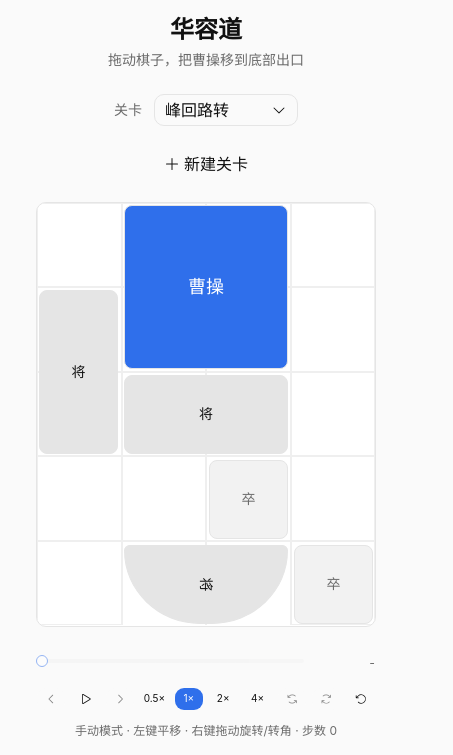
半圆块交互 › 听筒右键拖动转角后仍可左键平移
This screenshot has width=453, height=755.
Click the dropdown named "选择关卡". click: [226, 110]
box: [154, 94, 298, 126]
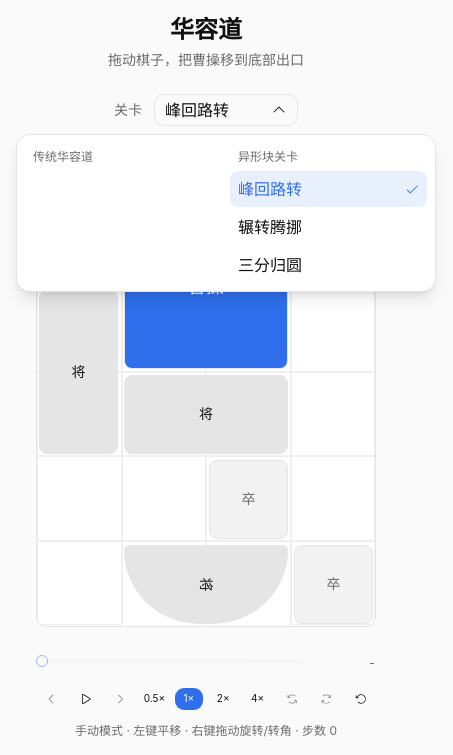
Click the option "辗转腾挪". click: [328, 226]
box: [230, 208, 427, 244]
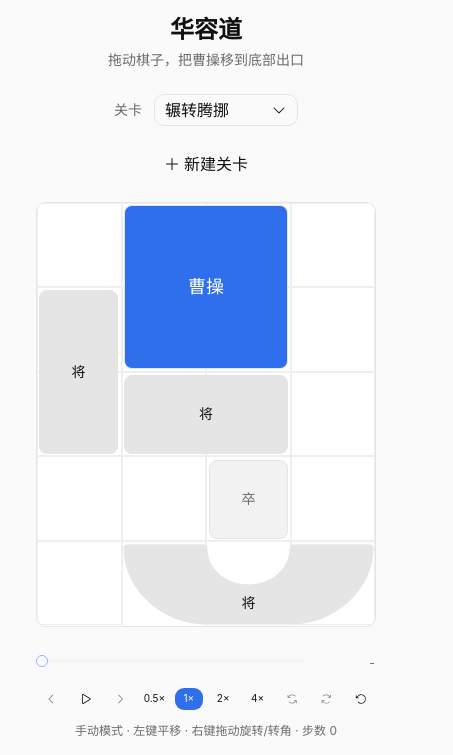
Press the mouse on the element named "电话听筒块" at [248, 584], box [121, 542, 376, 626]
Wait 148 ms
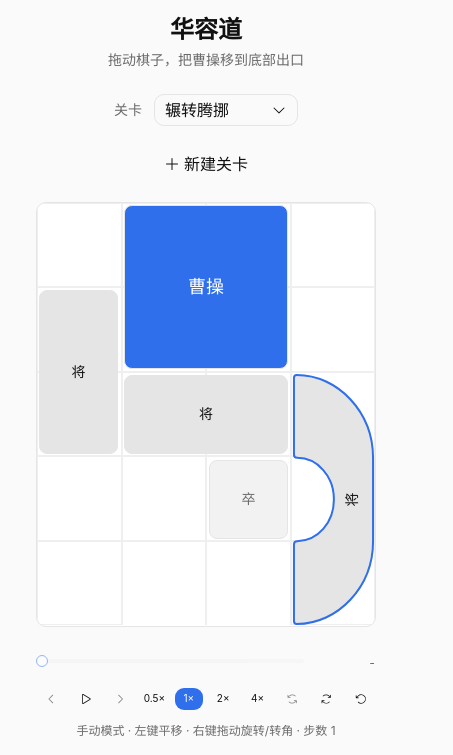
expect the text "手动模式 · 左键平移 · 右键拖动旋转/转角 · 步数 1" is shown: met, box [76, 722, 336, 738]
Press the mouse on the element named "电话听筒块" at [334, 499], box [291, 372, 376, 626]
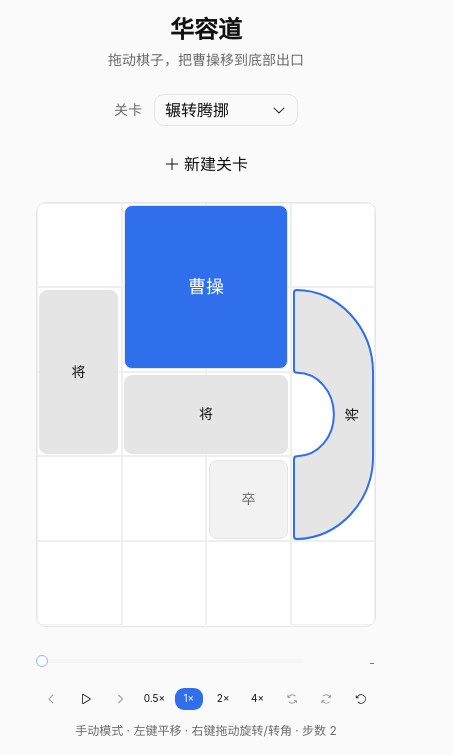
expect the text "手动模式 · 左键平移 · 右键拖动旋转/转角 · 步数 2" is shown: met, box [75, 722, 337, 738]
